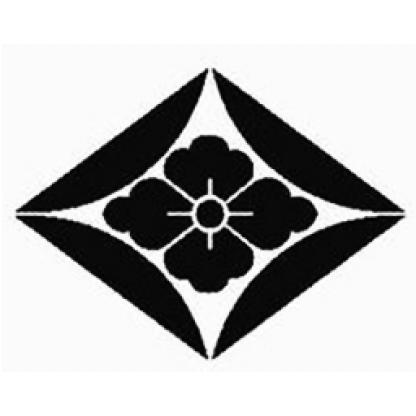kamon: (15, 62, 406, 364)
